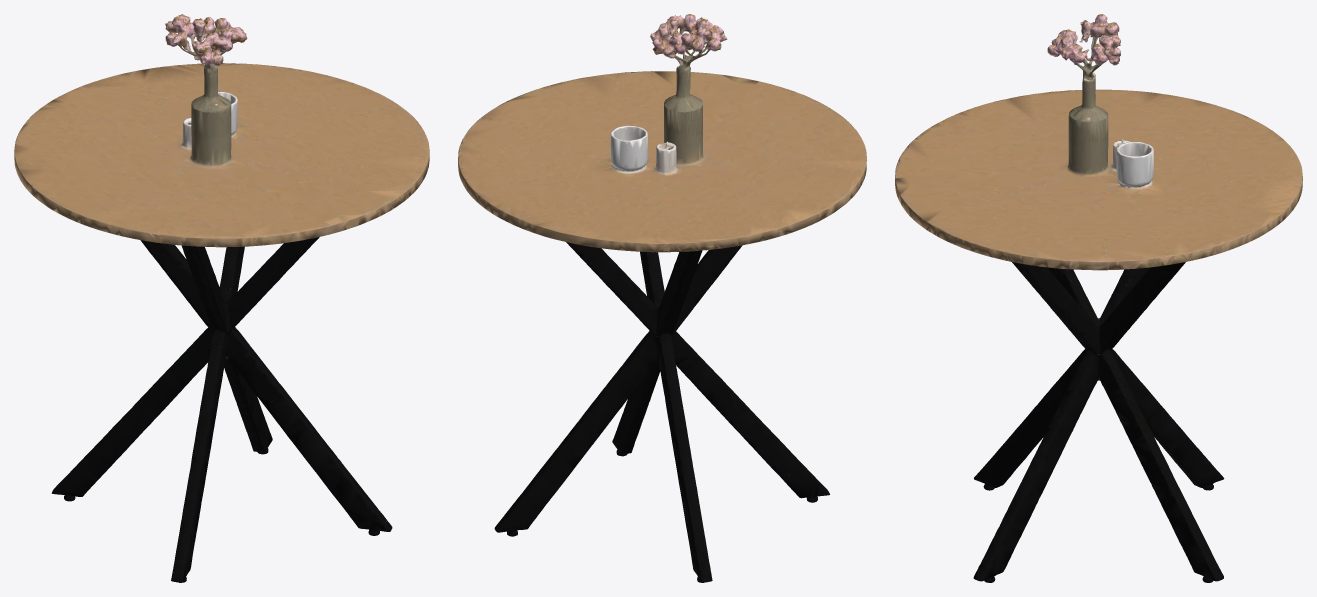
File: esstisch.glb
The picture shows the model from 3 angles, left to right: view 1: azimuth 30°, elevation 25°; view 2: azimuth 150°, elevation 25°; view 3: azimuth 270°, elevation 25°; orthographic projection.
Parts seen in each view (by area): view 1: mesh_node; view 2: mesh_node; view 3: mesh_node.
Part boxes in pixels (left/top/right/bottom): mesh_node: left=14, top=14, right=429, bottom=582; mesh_node: left=458, top=14, right=866, bottom=582; mesh_node: left=895, top=14, right=1302, bottom=582.
Size of the model in its own units: 1.4 by 1.9 by 1.4.
Materials: 1 (1 with a texture image).
